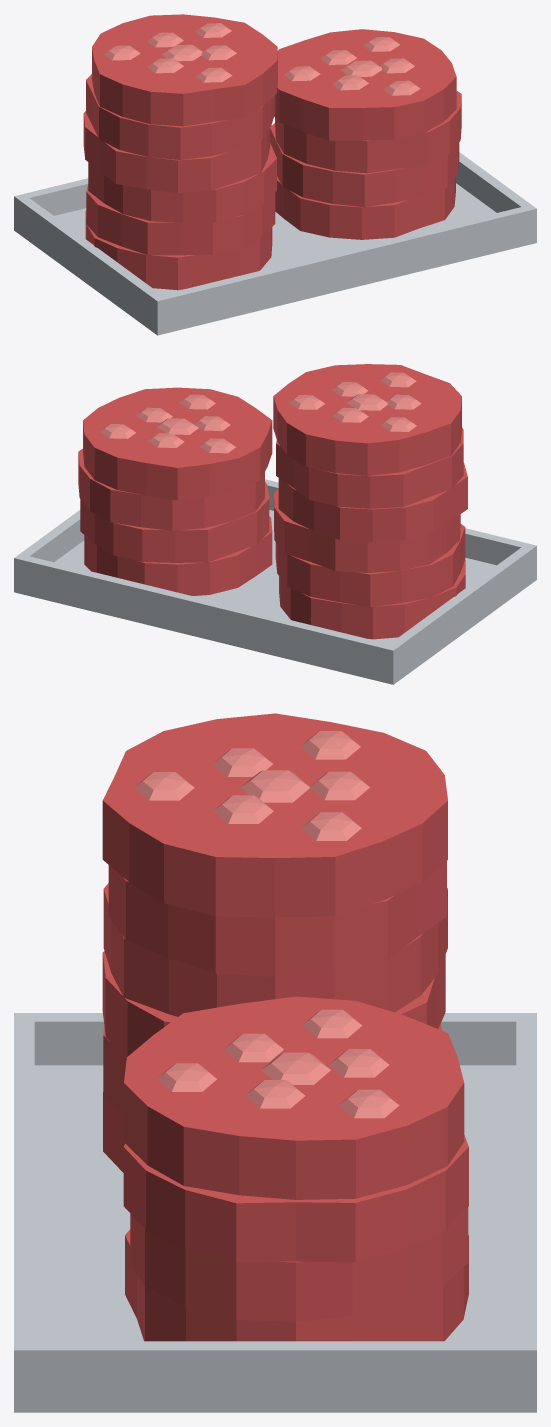
File: dispenser_patties.glb
3 views of the same model, one above another, from view 1: azimuth 30°, elevation 25°; view 2: azimuth 150°, elevation 25°; view 3: azimuth 270°, elevation 25° (orthographic). The views are drawn at different scales.
Parts seen in each view (by area): view 1: DispenserPatties; view 2: DispenserPatties; view 3: DispenserPatties.
Part boxes in pixels (x1,y1,x2,y2): DispenserPatties: [14, 14, 536, 335]; DispenserPatties: [14, 364, 536, 684]; DispenserPatties: [14, 713, 536, 1412].
Bounding box in the file's own units: 5.8 × 3.08 × 3.8.
